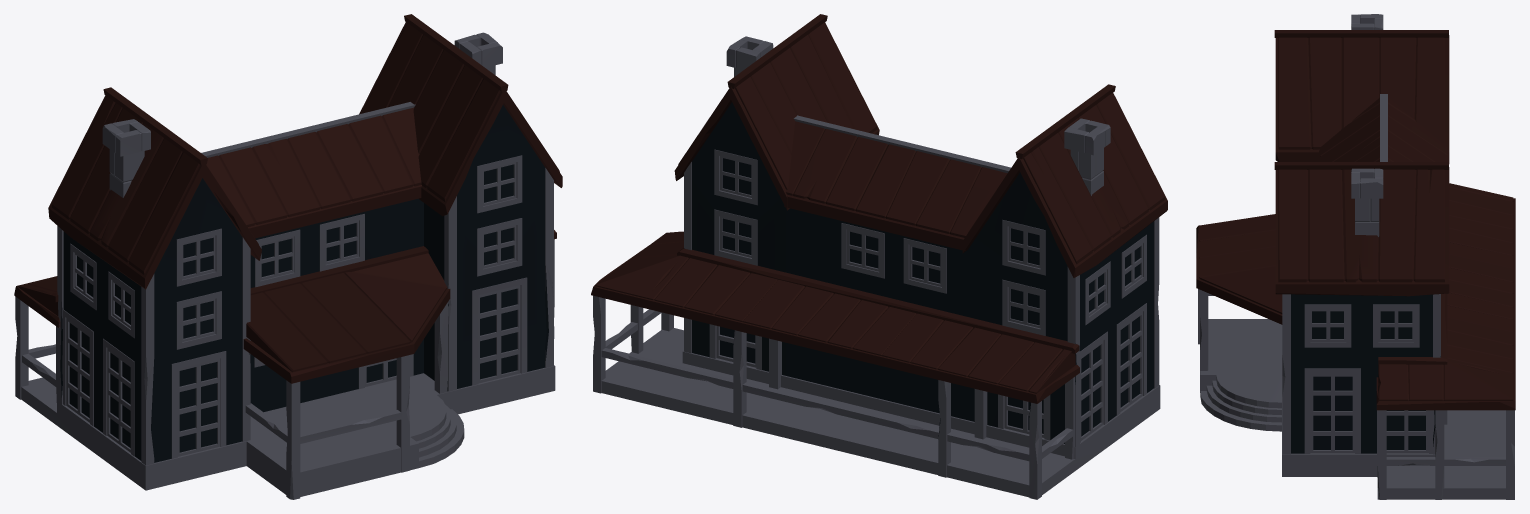
Rendered from House_7.001.fbx.
3 renders of one model, left to right at view 1: azimuth 30°, elevation 25°; view 2: azimuth 150°, elevation 25°; view 3: azimuth 270°, elevation 25°, orthographic. The views are drawn at different scales.
Visible parts, largest first — view 1: House_7.001; view 2: House_7.001; view 3: House_7.001.
Part boxes in pixels (<box>): House_7.001: <box>14,14,562,499</box>; House_7.001: <box>591,14,1167,499</box>; House_7.001: <box>1196,14,1515,499</box>.
Bounding box in the file's own units: 451 × 296 × 296.
